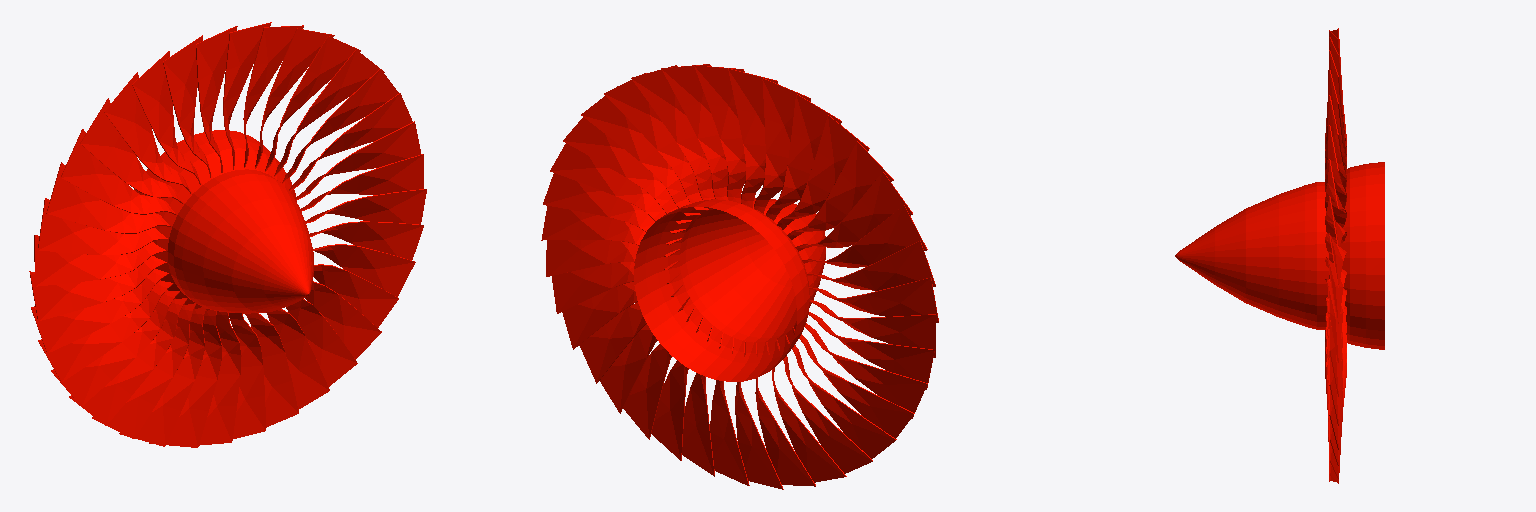
File: 0.0001Fan.obj
The picture shows the model from 3 angles: view 1: azimuth 30°, elevation 25°; view 2: azimuth 150°, elevation 25°; view 3: azimuth 270°, elevation 25°; orthographic projection.
Visible parts, largest first — view 1: mesh3ds_index_36; view 2: mesh3ds_index_36; view 3: mesh3ds_index_36.
Boxes of the visible parts, x1=… form: mesh3ds_index_36: x1=29, y1=22, x2=426, y2=447; mesh3ds_index_36: x1=541, y1=64, x2=938, y2=489; mesh3ds_index_36: x1=1175, y1=28, x2=1384, y2=483.
Bounding box in the file's own units: 4.59 × 4.59 × 2.12.